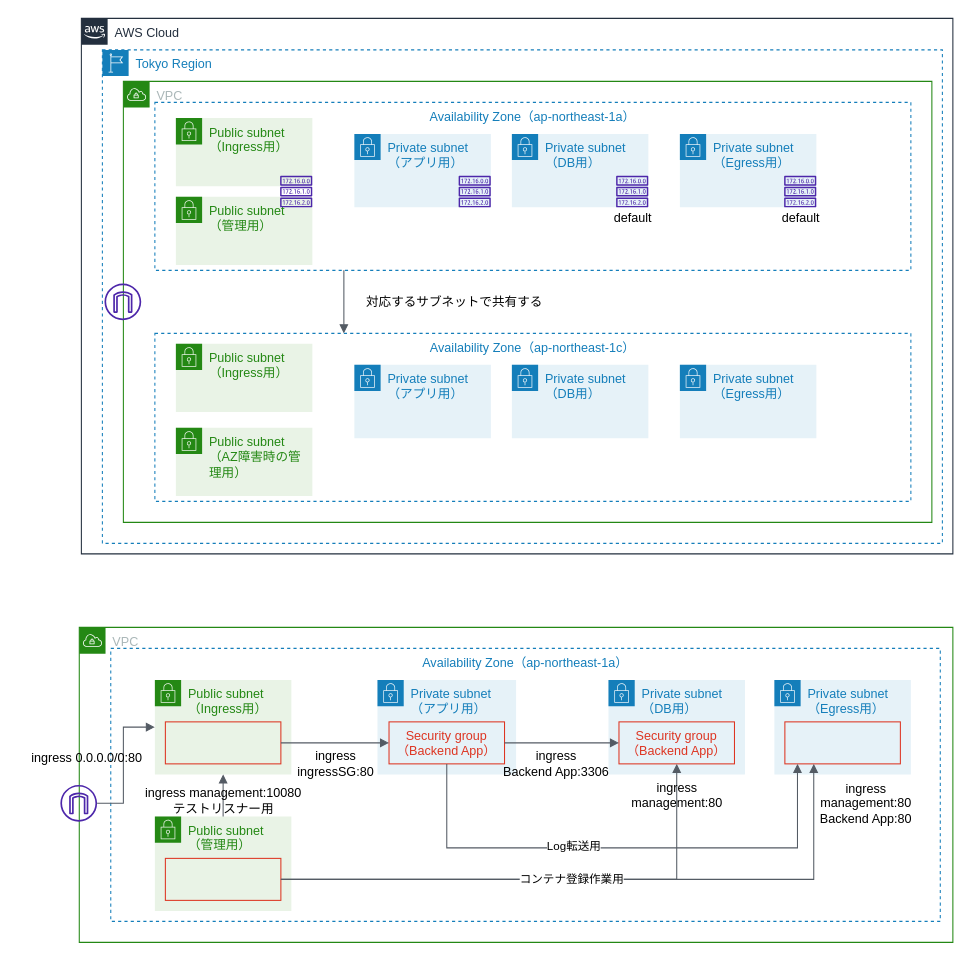
The diagram is 971 pixels wide and 961 high, and some of its shapes have lost their labels. The shapes that lost their labels are listed below. From the top down, each one's centre as x and y in pixels, then its label:
At (222,742): "Security group （ingress）".
At (842,742): "Security group （Engress）".
At (222,878): "Security group （management）".
